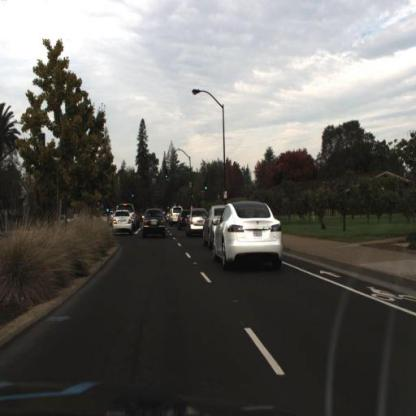car: (213, 197, 285, 268), (202, 205, 233, 245), (203, 205, 223, 252), (144, 207, 166, 236), (188, 206, 208, 237), (118, 203, 138, 229), (189, 208, 206, 237), (114, 210, 133, 233), (182, 211, 194, 235), (172, 207, 182, 229)
trafficLight-Green: (205, 181, 210, 196), (165, 171, 170, 185)
